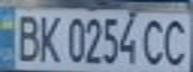0: (63, 13, 84, 64)
2: (81, 14, 106, 65)
4: (118, 12, 142, 66)
5: (100, 14, 124, 65)
B: (9, 10, 42, 63)
C: (160, 15, 193, 69), (139, 15, 172, 67)
K: (33, 11, 63, 63)
